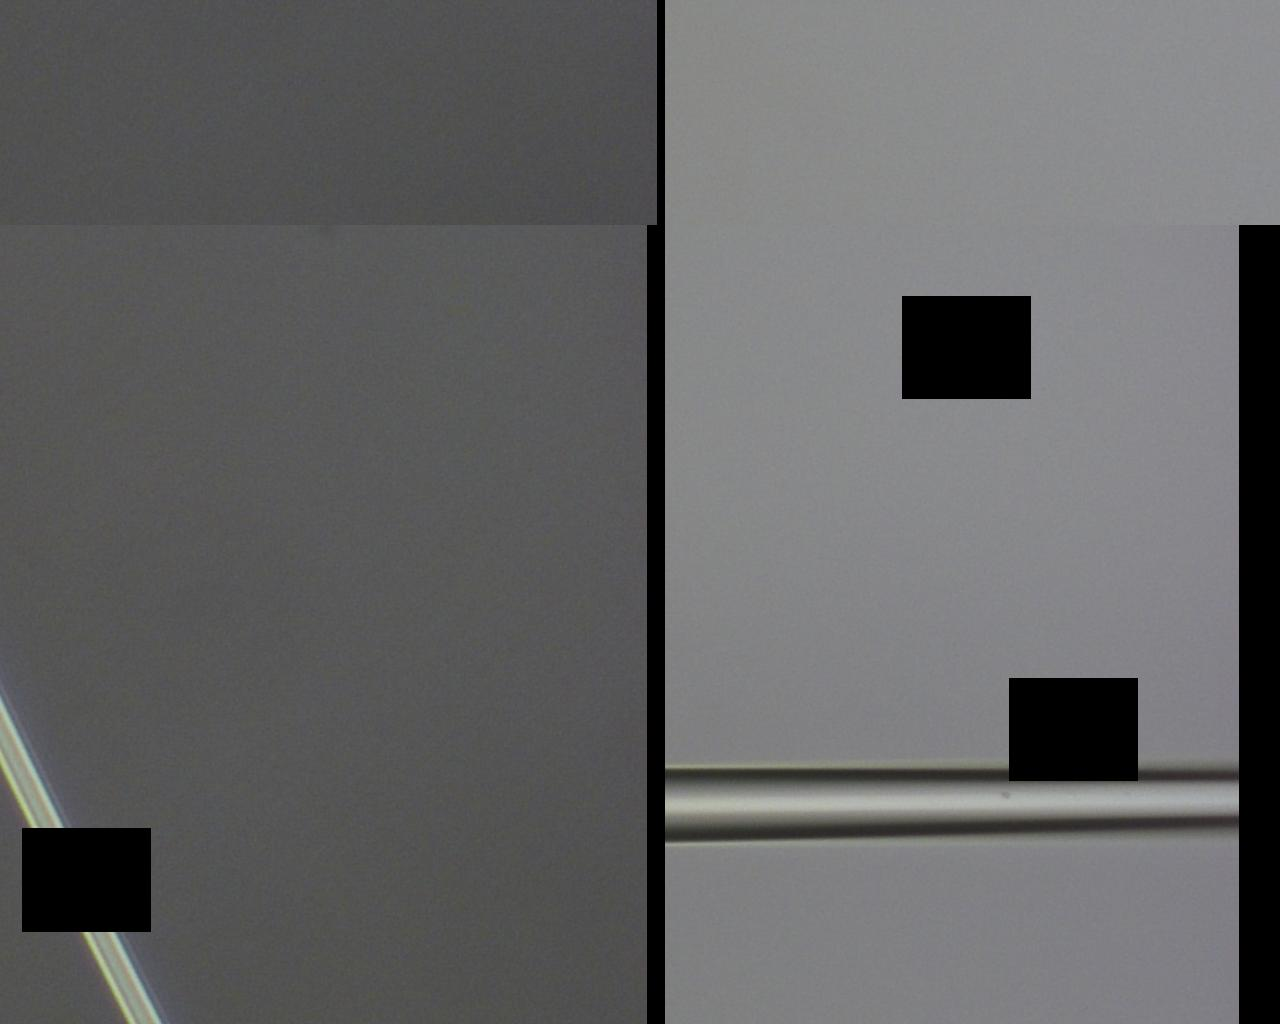fiber: (366, 0, 1051, 1024)
